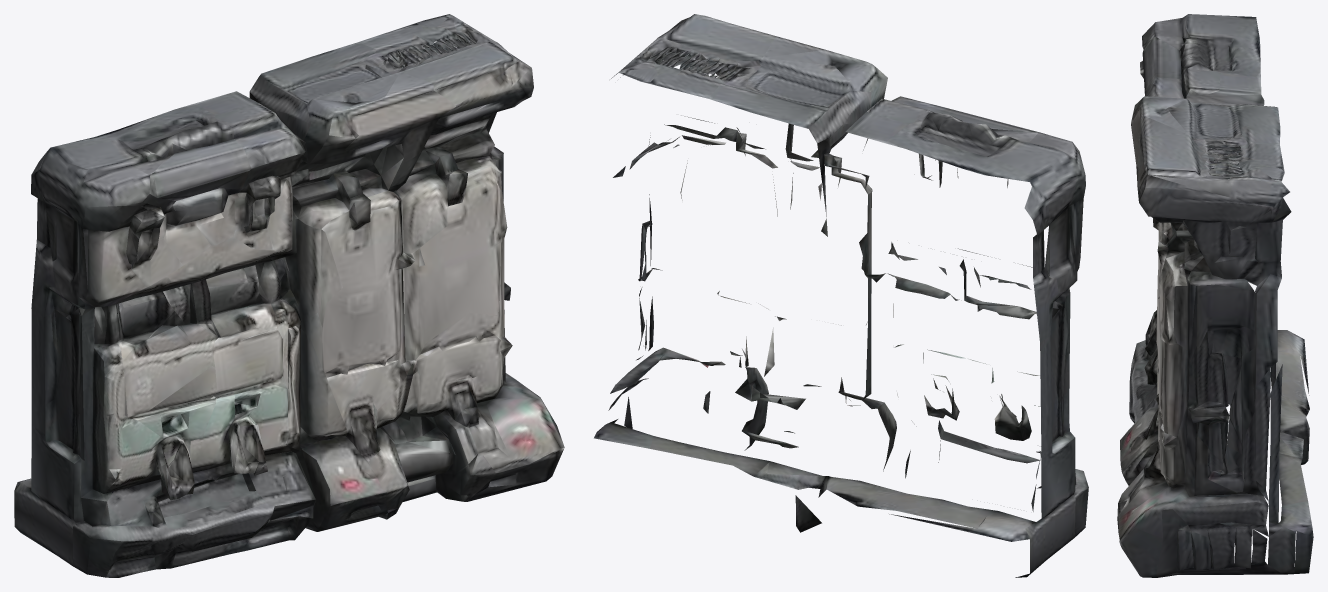
The model's file is hangar_panel_f.glb.
3 renders of one model, left to right at view 1: azimuth 30°, elevation 25°; view 2: azimuth 150°, elevation 25°; view 3: azimuth 270°, elevation 25°, orthographic. The views are drawn at different scales.
Visible parts, largest first — view 1: hangar_panel_f; view 2: hangar_panel_f; view 3: hangar_panel_f.
Boxes of the visible parts, box(x1,y1,x2,y2) form: hangar_panel_f: box(14, 14, 564, 577); hangar_panel_f: box(594, 14, 1088, 577); hangar_panel_f: box(1117, 14, 1313, 577).
Bounding box in the file's own units: 0.3578 × 0.3173 × 0.1413.
Materials: 1 (1 with a texture image).
